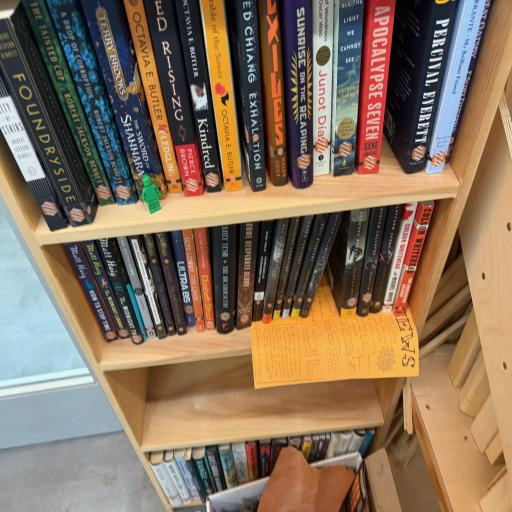Lego-Dude: (142, 174, 162, 214)
